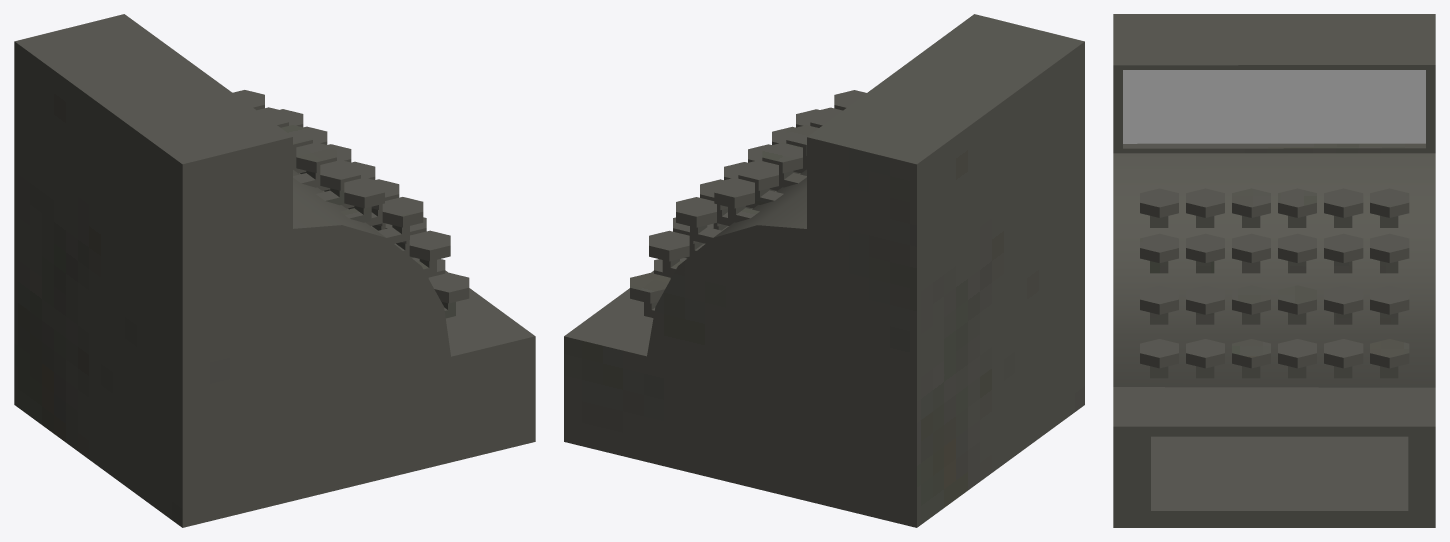
The model's file is Cajaregistradora.obj.
3 views of the same model, side by side, from view 1: azimuth 30°, elevation 25°; view 2: azimuth 150°, elevation 25°; view 3: azimuth 270°, elevation 25° (orthographic). The views are drawn at different scales.
Visible parts, largest first — view 1: Cajaregistradora:polySurface147; view 2: Cajaregistradora:polySurface147; view 3: Cajaregistradora:polySurface147.
Part boxes in pixels (box(x1,y1,x2,y2)): Cajaregistradora:polySurface147: box(14, 14, 535, 527); Cajaregistradora:polySurface147: box(564, 14, 1084, 527); Cajaregistradora:polySurface147: box(1113, 14, 1435, 527).
Bounding box in the file's own units: 3.97 × 3.92 × 3.28.
